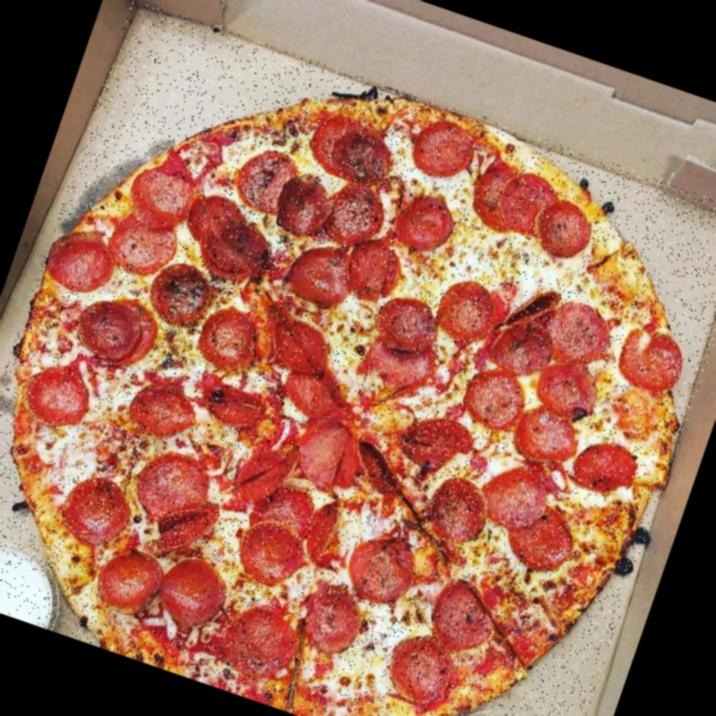Pepperoni: (128, 442, 218, 531), (376, 626, 464, 714), (214, 598, 300, 686), (330, 228, 414, 318), (288, 409, 374, 496), (88, 538, 172, 624), (51, 466, 134, 552), (340, 531, 426, 614), (419, 572, 503, 655), (149, 548, 228, 634), (118, 154, 204, 232), (122, 365, 202, 448), (257, 306, 341, 385), (231, 515, 316, 593), (192, 210, 276, 288), (418, 468, 495, 552), (279, 238, 364, 314), (405, 110, 486, 189), (540, 295, 621, 372), (97, 206, 182, 279), (191, 369, 280, 438), (16, 358, 96, 432), (290, 583, 368, 658), (458, 363, 538, 436), (64, 288, 142, 362), (495, 500, 574, 573), (614, 326, 694, 398), (226, 146, 306, 218), (41, 221, 117, 295), (507, 400, 585, 472), (564, 432, 642, 504), (400, 407, 479, 478), (144, 258, 221, 330), (432, 274, 509, 346), (476, 459, 550, 533), (278, 351, 354, 422), (230, 437, 300, 514), (389, 187, 462, 260), (192, 302, 264, 376), (325, 122, 399, 194), (527, 192, 595, 266), (96, 294, 164, 367), (358, 331, 432, 398), (482, 312, 553, 381), (468, 163, 534, 237), (498, 166, 562, 242), (154, 488, 221, 560), (370, 295, 442, 361), (532, 356, 606, 420), (323, 182, 388, 250), (180, 188, 247, 253), (271, 172, 334, 239), (253, 485, 322, 546), (310, 107, 367, 173), (502, 280, 562, 342), (298, 502, 346, 568)
Pizza: (0, 0, 716, 716)
